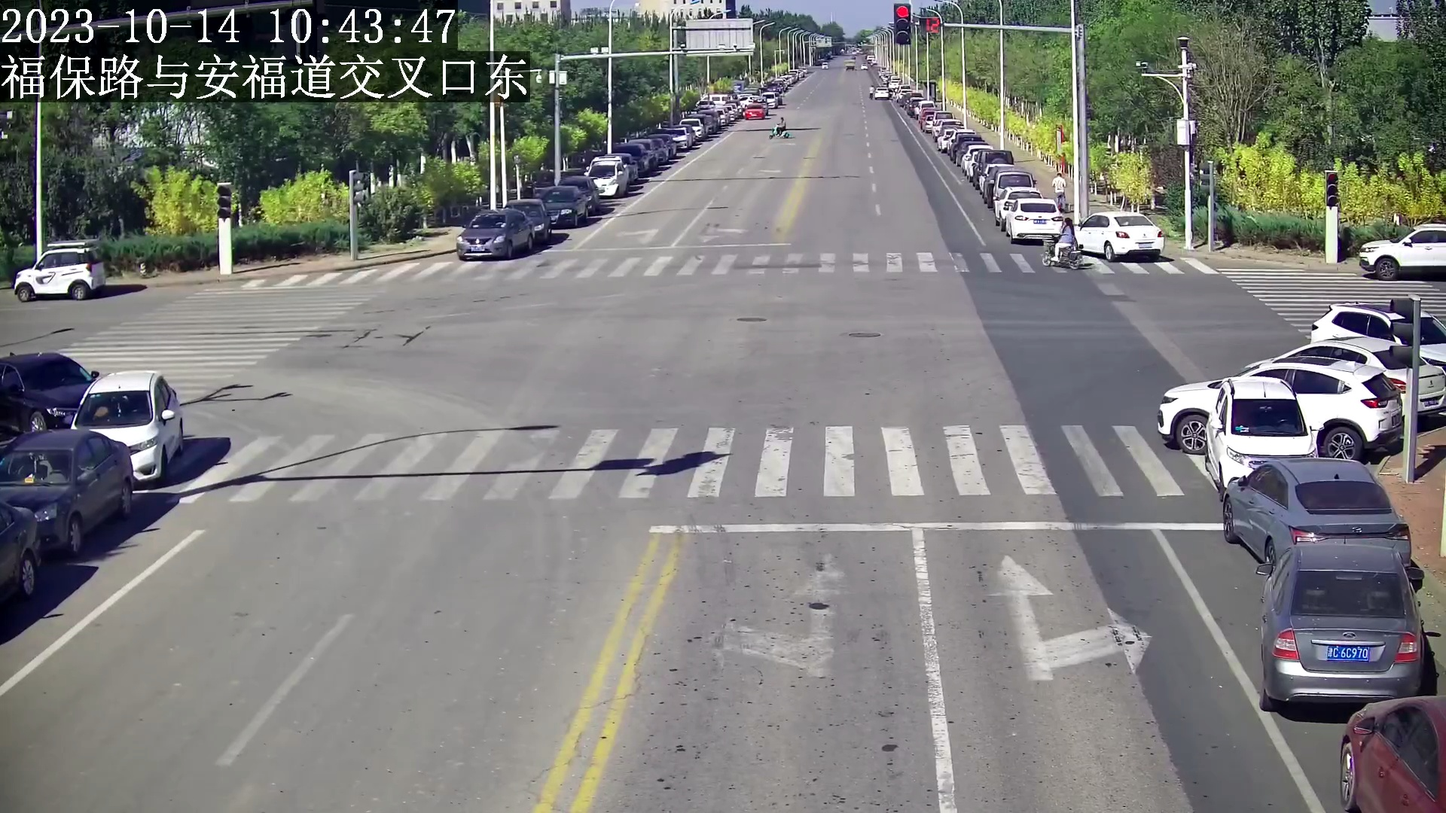person: (1055, 215, 1072, 263), (1052, 172, 1070, 209)
vehicle: (1257, 539, 1424, 705), (1157, 359, 1407, 455), (1220, 455, 1414, 562), (3, 431, 139, 556), (68, 364, 179, 486), (1339, 687, 1441, 811), (1205, 373, 1315, 481), (2, 343, 99, 434), (11, 235, 108, 303), (1076, 201, 1164, 266), (1358, 212, 1445, 273), (453, 206, 527, 262), (1007, 191, 1060, 238), (1039, 240, 1087, 269)
